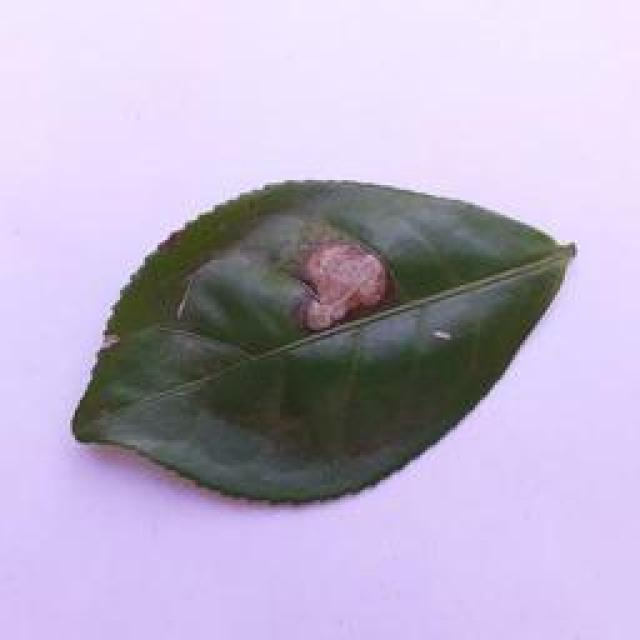Gray Blight: (59, 172, 577, 505)
